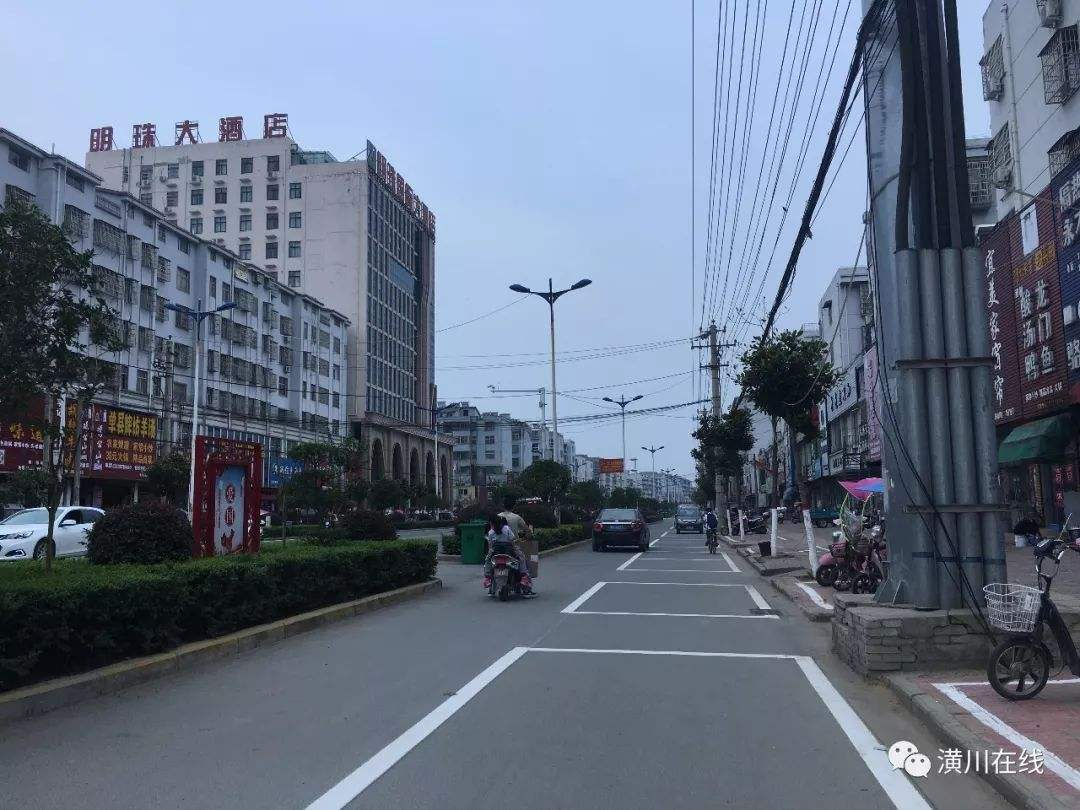slot_nocar: (320, 637, 945, 810), (554, 574, 787, 633), (614, 546, 747, 583)
